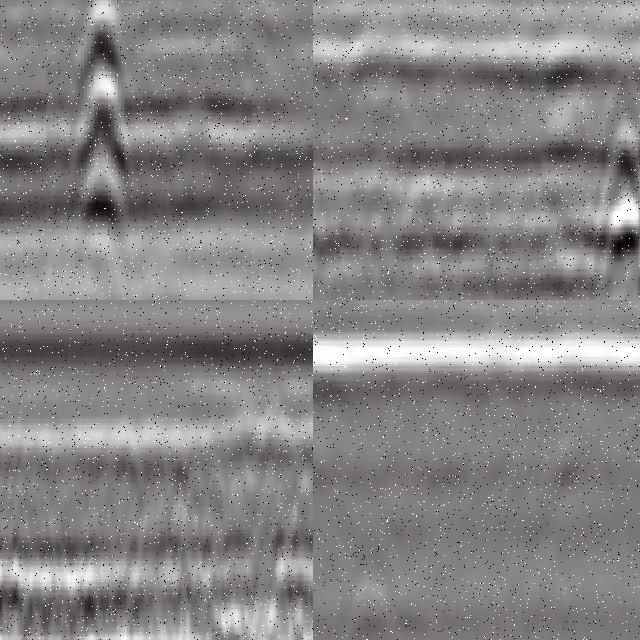crack: (62, 1, 129, 267)
loose: (579, 130, 640, 297), (1, 535, 59, 640)
